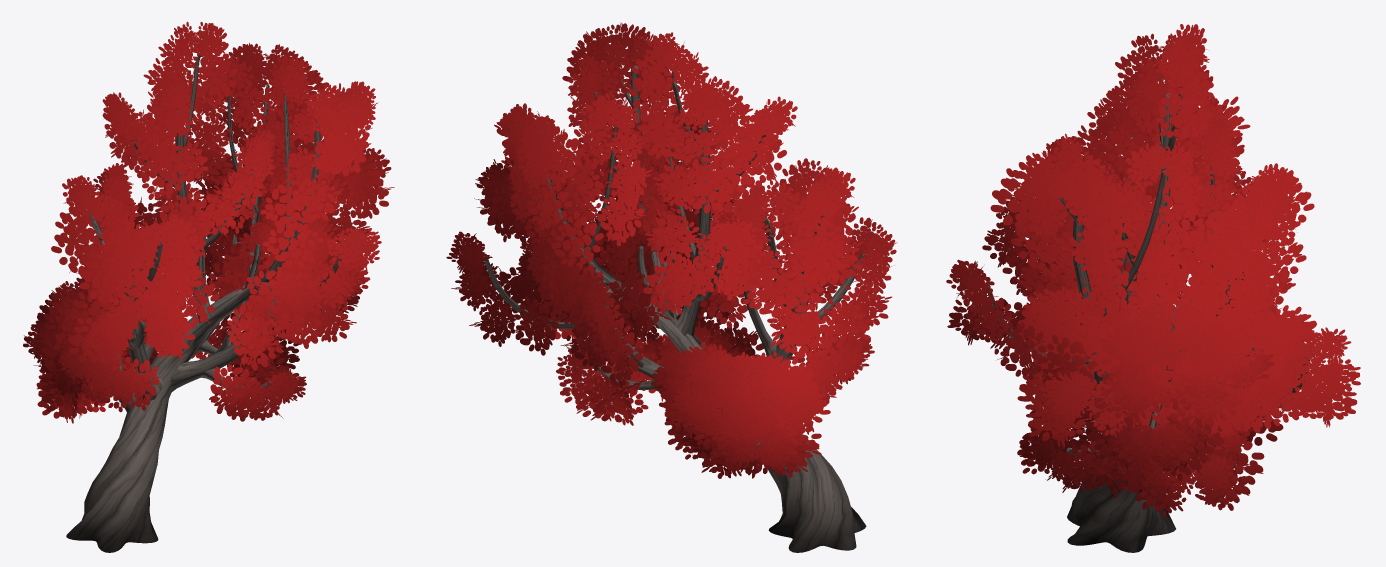
The model's file is n_TwistedTree_1.glb.
The picture shows the model from 3 angles, left to right: view 1: azimuth 30°, elevation 25°; view 2: azimuth 150°, elevation 25°; view 3: azimuth 270°, elevation 25°; orthographic projection. The views are drawn at different scales.
Visible parts, largest first — view 1: TwistedTree_1; view 2: TwistedTree_1; view 3: TwistedTree_1.
Part boxes in pixels (x1,y1,x2,y2): TwistedTree_1: (23, 21, 394, 552); TwistedTree_1: (446, 22, 897, 552); TwistedTree_1: (946, 24, 1360, 552).
Size of the model in its own units: 13.52 by 16.73 by 11.55.
Materials: 2 (2 with a texture image).
